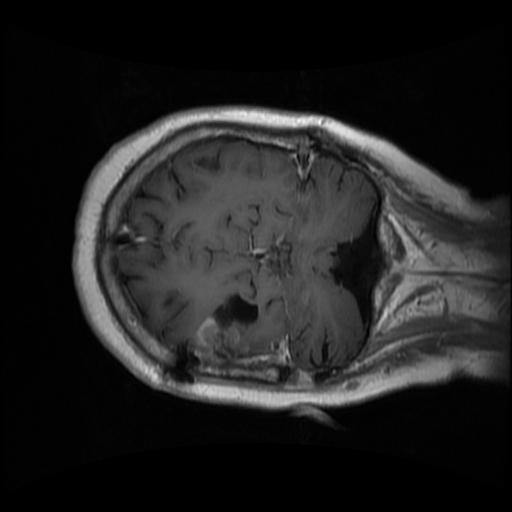glioma: (191, 294, 259, 369)
